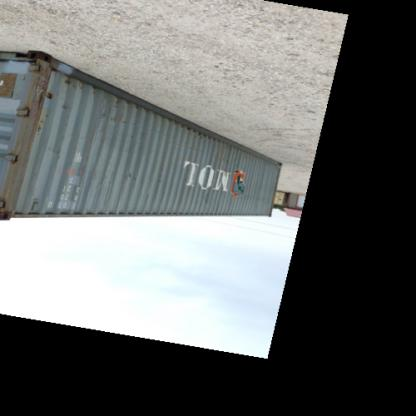Damage: (204, 146, 240, 209), (98, 98, 138, 132), (122, 168, 145, 196), (29, 112, 52, 140), (62, 74, 88, 96), (46, 89, 58, 107), (62, 101, 73, 115)
